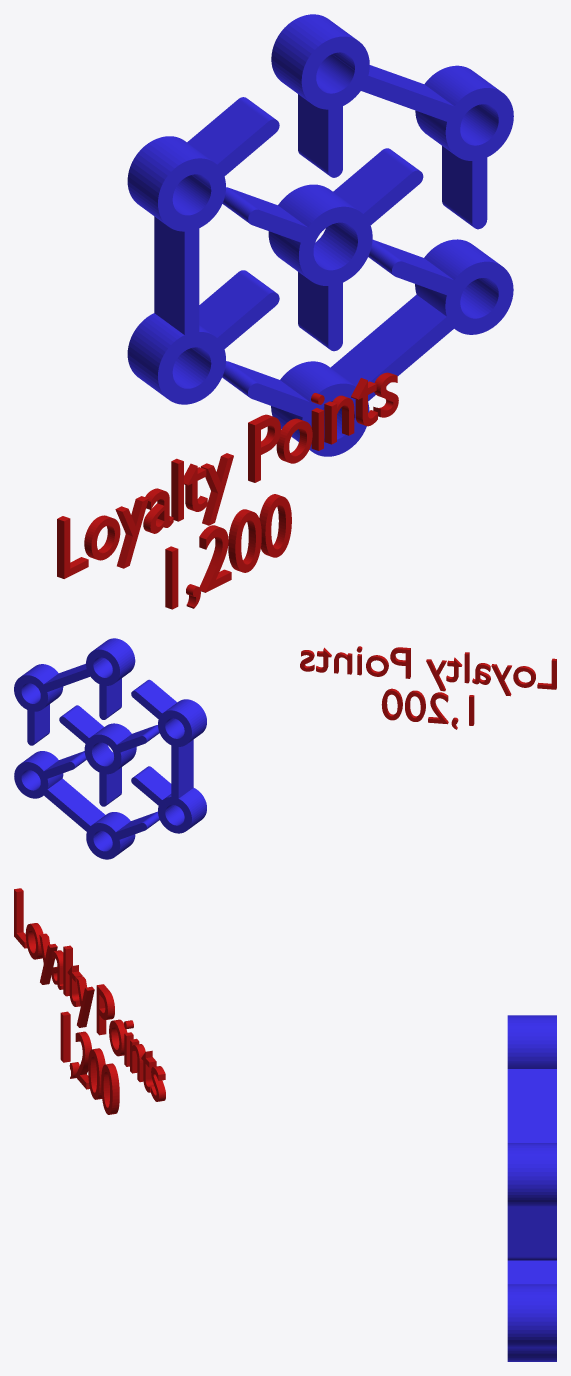
File: 3dcoin.glb
The picture shows the model from 3 angles, top to bottom: view 1: azimuth 30°, elevation 25°; view 2: azimuth 150°, elevation 25°; view 3: azimuth 270°, elevation 25°; orthographic projection. The views are drawn at different scales.
Visible parts, largest first — view 1: moveLeft, MoveTR, moveBottom, Label, moveMid; view 2: moveLeft, moveBottom, MoveTR, Label, moveMid; view 3: MoveTR, Label, moveBottom.
Boxes of the visible parts, bbox=[...] form: moveLeft: bbox=[127, 97, 279, 404]; MoveTR: bbox=[271, 14, 513, 229]; moveBottom: bbox=[222, 239, 513, 456]; Label: bbox=[57, 372, 398, 609]; moveMid: bbox=[222, 148, 423, 351]; moveLeft: bbox=[131, 679, 206, 833]; moveBottom: bbox=[14, 751, 159, 859]; MoveTR: bbox=[14, 638, 135, 745]; Label: bbox=[300, 646, 556, 729]; moveMid: bbox=[59, 705, 159, 806]; MoveTR: bbox=[507, 1015, 556, 1260]; Label: bbox=[14, 888, 165, 1114]; moveBottom: bbox=[507, 1260, 556, 1361].
Size of what is drawn, in the model's own units: 9.32 by 4.93 by 7.12.
